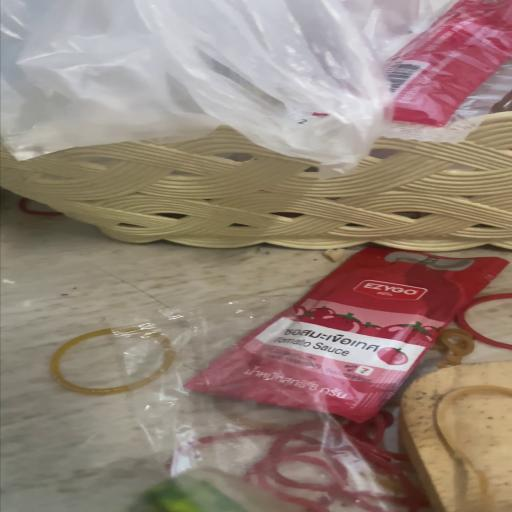brand_golden_good: (398, 360, 512, 511)
